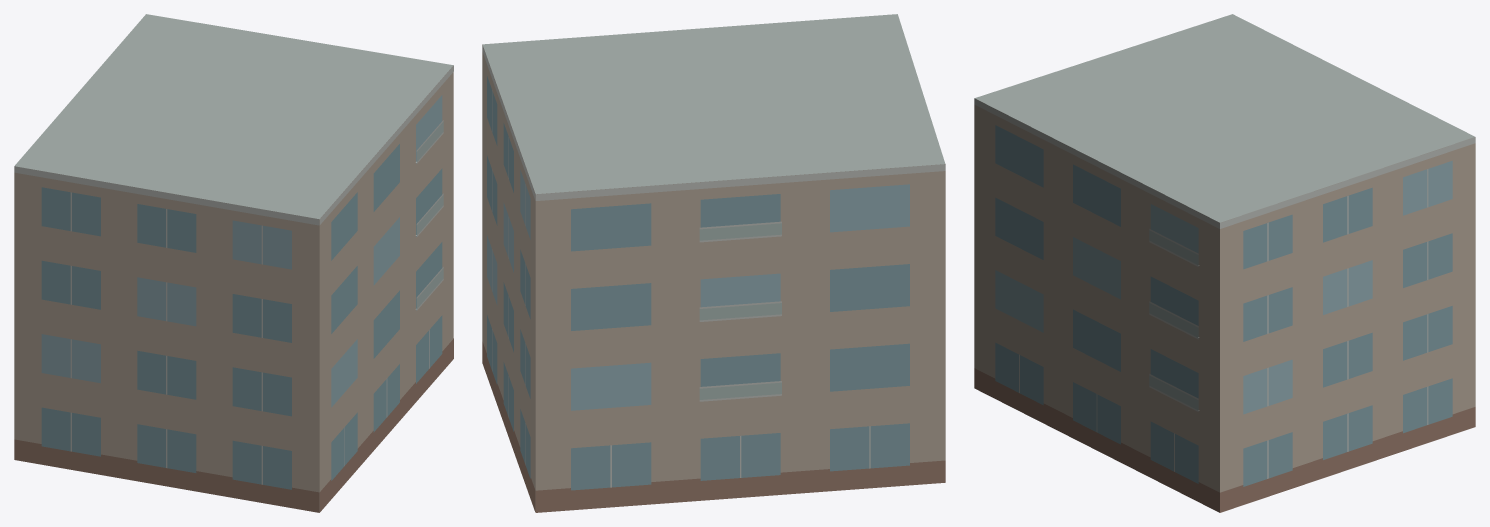
File: survey-upis-32684117.glb
3 renders of one model, left to right at view 1: azimuth 30°, elevation 25°; view 2: azimuth 150°, elevation 25°; view 3: azimuth 270°, elevation 25°, orthographic. The views are drawn at different scales.
Parts seen in each view (by area): view 1: survey-upis-32684117.tmp; view 2: survey-upis-32684117.tmp; view 3: survey-upis-32684117.tmp.
Boxes of the visible parts, x1,y1,x2,y2 form: survey-upis-32684117.tmp: (14, 14, 453, 512); survey-upis-32684117.tmp: (482, 14, 945, 512); survey-upis-32684117.tmp: (974, 14, 1475, 512).
Size of the model in its own units: 17.3 by 11.2 by 17.54.
